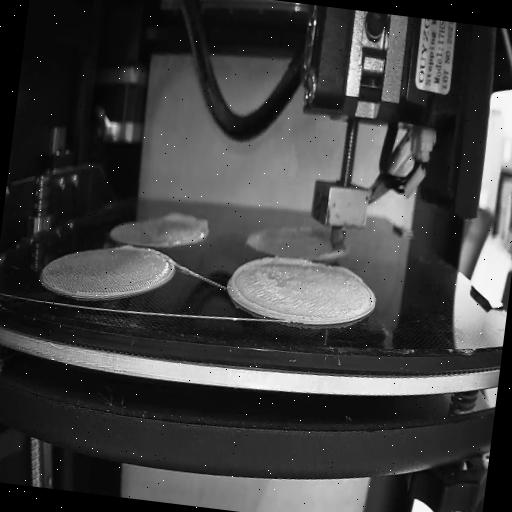over_extrusion: (225, 250, 313, 323), (160, 210, 212, 234), (315, 247, 351, 264), (116, 242, 137, 255)
